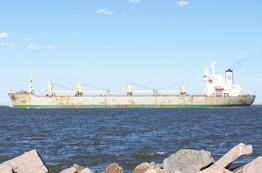Cargoship: (5, 61, 257, 111)
